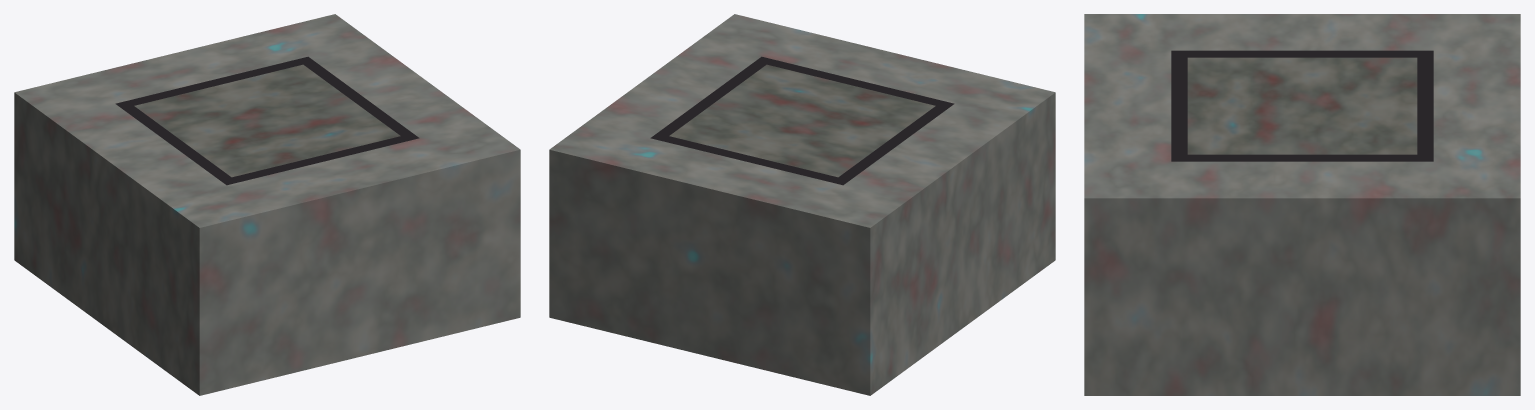
File: SE_148_cubic_pillar_top.glb
The picture shows the model from 3 angles, left to right: view 1: azimuth 30°, elevation 25°; view 2: azimuth 150°, elevation 25°; view 3: azimuth 270°, elevation 25°; orthographic projection. The views are drawn at different scales.
Visible parts, largest first — view 1: base; view 2: base; view 3: base.
Part boxes in pixels (bbox=[...]): base: bbox=[14, 14, 520, 395]; base: bbox=[549, 14, 1055, 395]; base: bbox=[1084, 14, 1520, 395].
Bounding box in the file's own units: 0.75 × 0.375 × 0.75.
2 materials, 1 textured.
